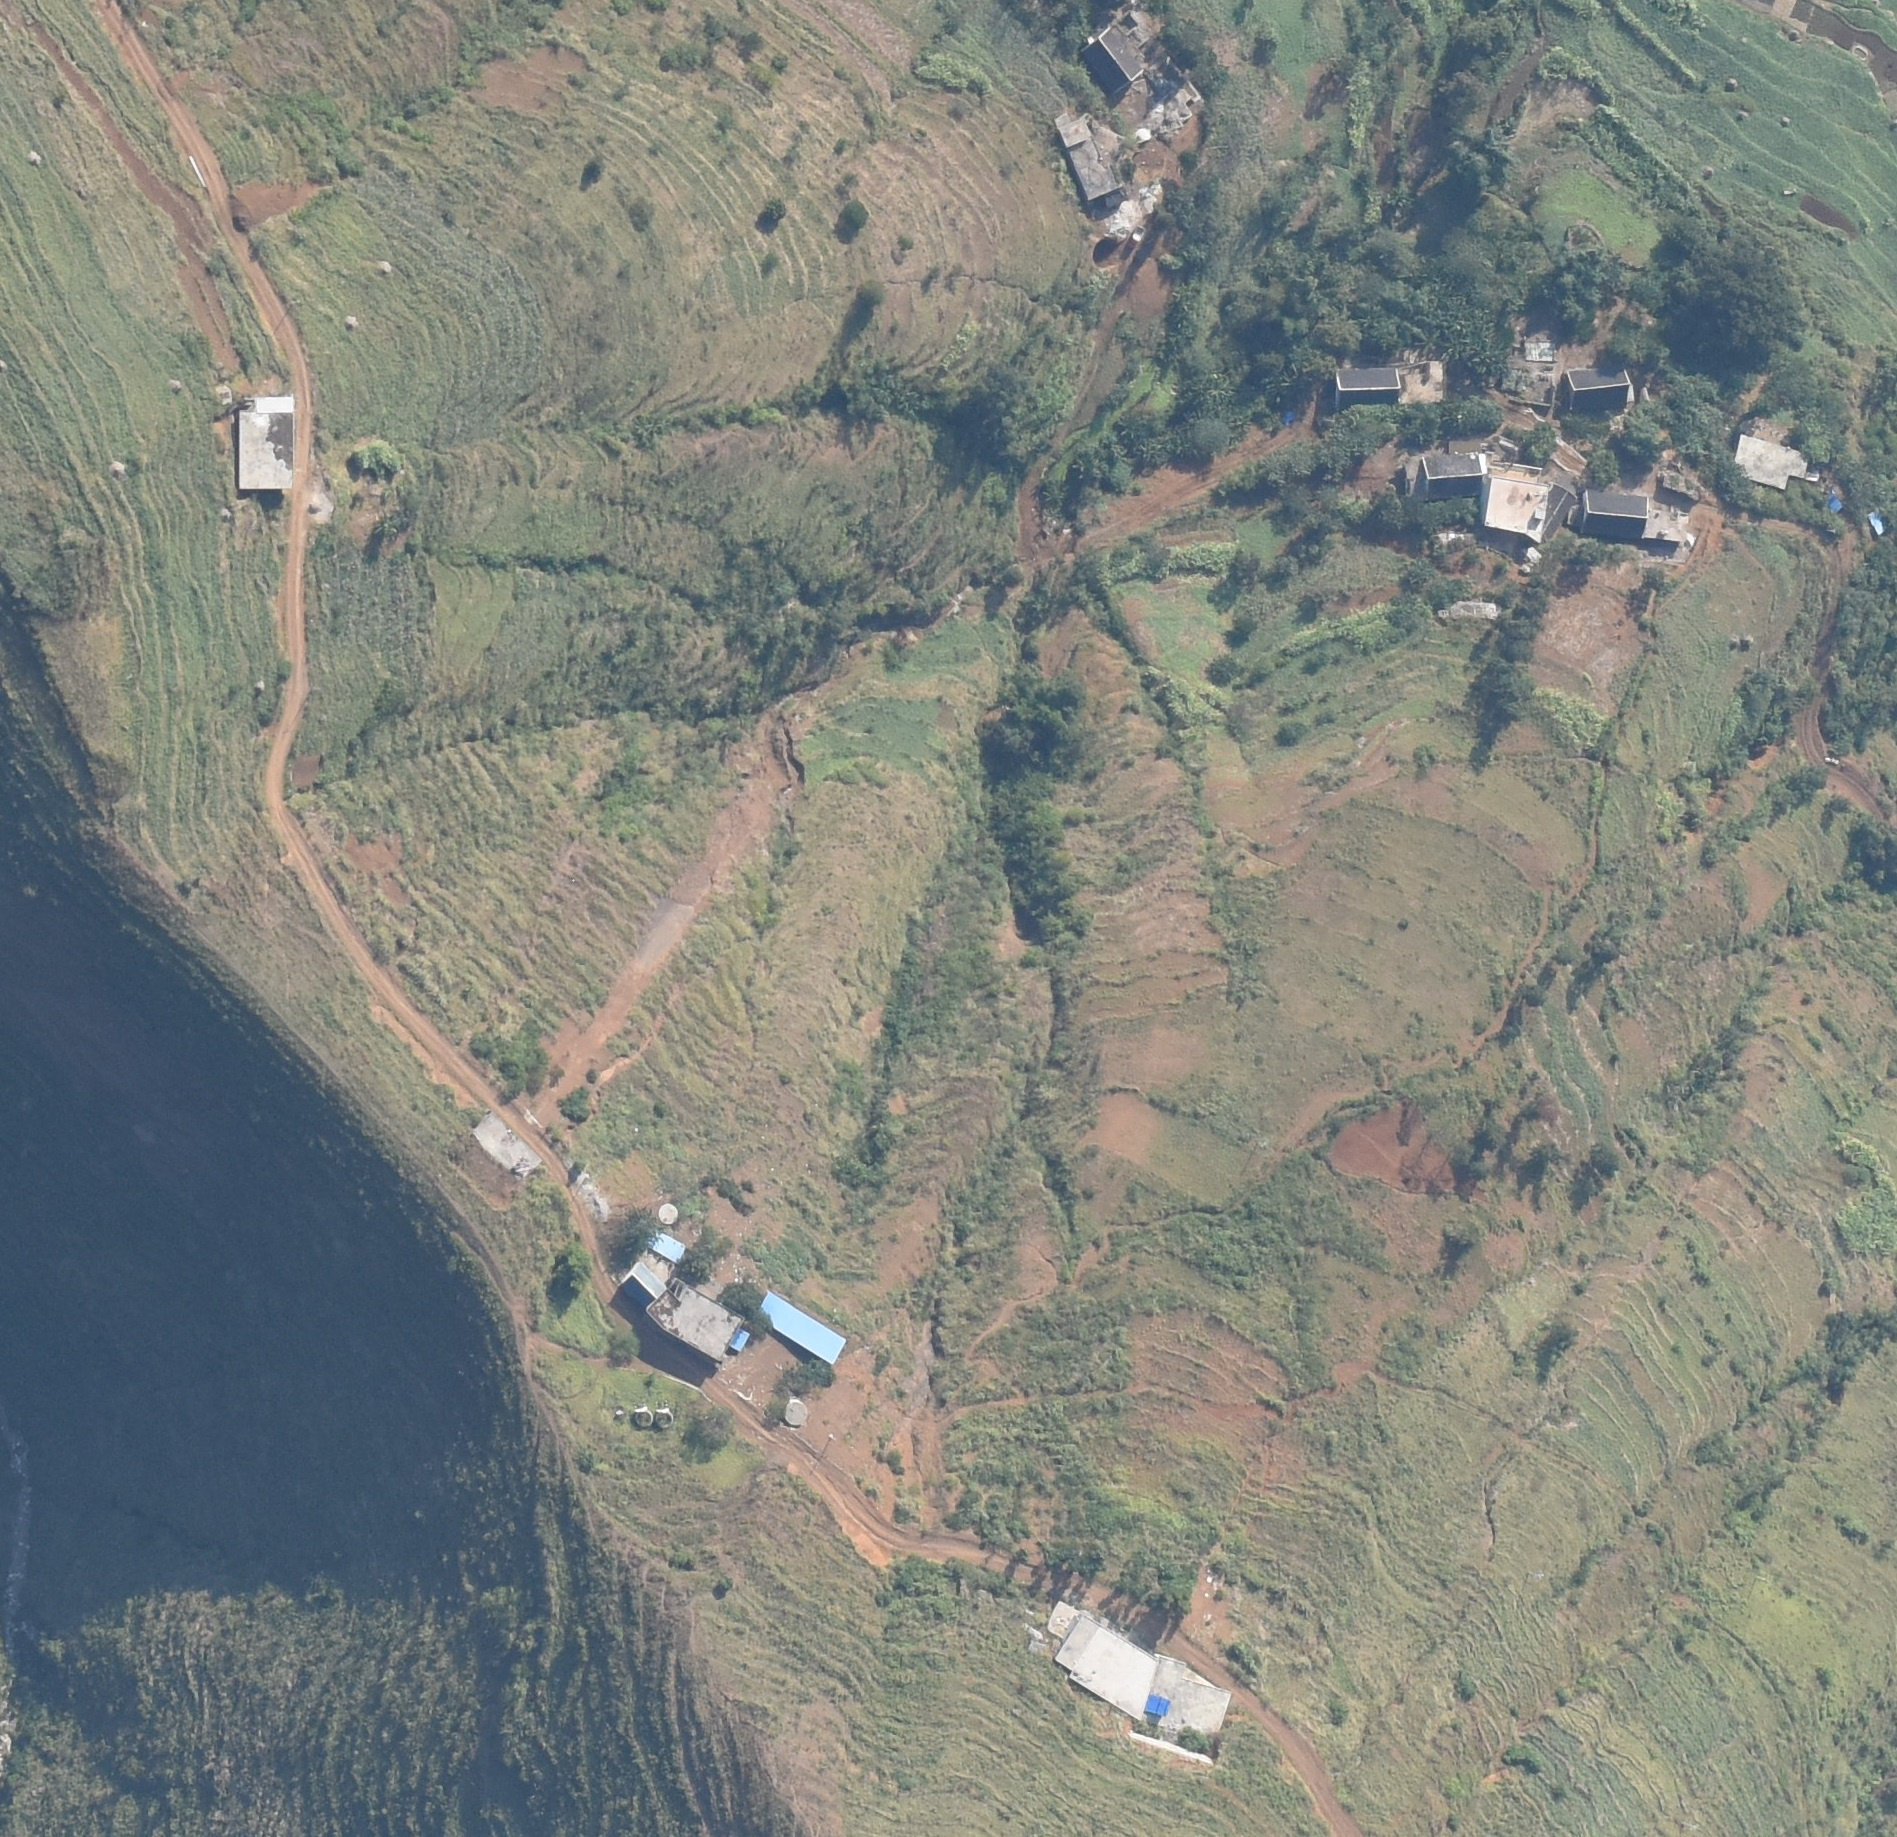building: (1049, 1601, 1230, 1741), (648, 1282, 743, 1360), (236, 389, 295, 495), (1584, 490, 1679, 547), (476, 1110, 539, 1177), (1483, 474, 1547, 539), (1735, 435, 1809, 491), (1084, 25, 1143, 90), (1068, 138, 1125, 200), (1566, 364, 1633, 409), (1422, 451, 1485, 495), (1336, 366, 1403, 407), (1545, 475, 1575, 538), (619, 1263, 661, 1306), (1052, 112, 1091, 146), (1522, 339, 1556, 362)
prefabricated-house: (759, 1292, 849, 1369), (644, 1230, 684, 1260), (1144, 1692, 1171, 1716), (729, 1327, 750, 1353), (1868, 510, 1887, 535), (1824, 492, 1846, 513)
well: (785, 1398, 806, 1426), (659, 1202, 679, 1224)
